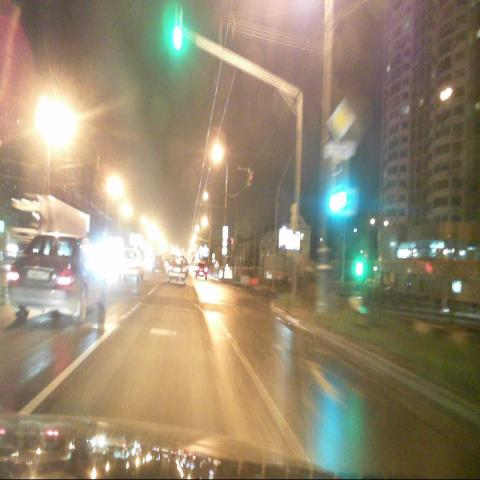2_1: (330, 97, 354, 139)
